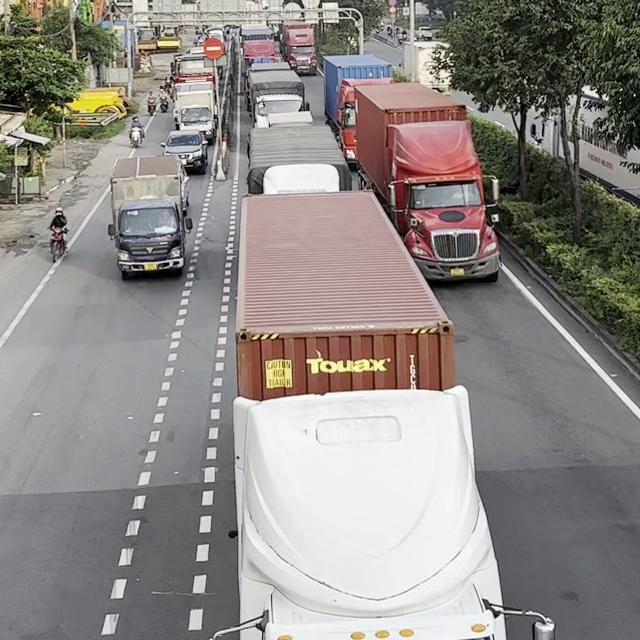car: (159, 129, 208, 175)
motorcycle: (47, 225, 69, 263), (128, 123, 145, 148), (157, 95, 168, 112), (147, 98, 156, 115)
truck: (221, 190, 508, 640), (353, 81, 501, 283), (105, 154, 194, 278), (323, 53, 395, 167), (245, 123, 352, 195), (243, 69, 313, 128), (172, 81, 218, 144), (279, 21, 317, 75)
